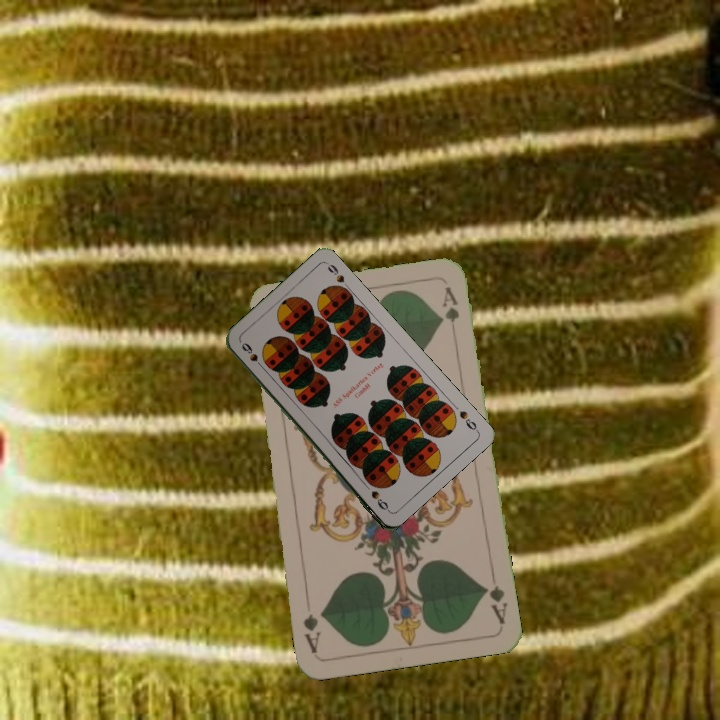GA: (480, 568, 510, 627)
S9: (237, 339, 268, 372), (455, 406, 481, 434)
